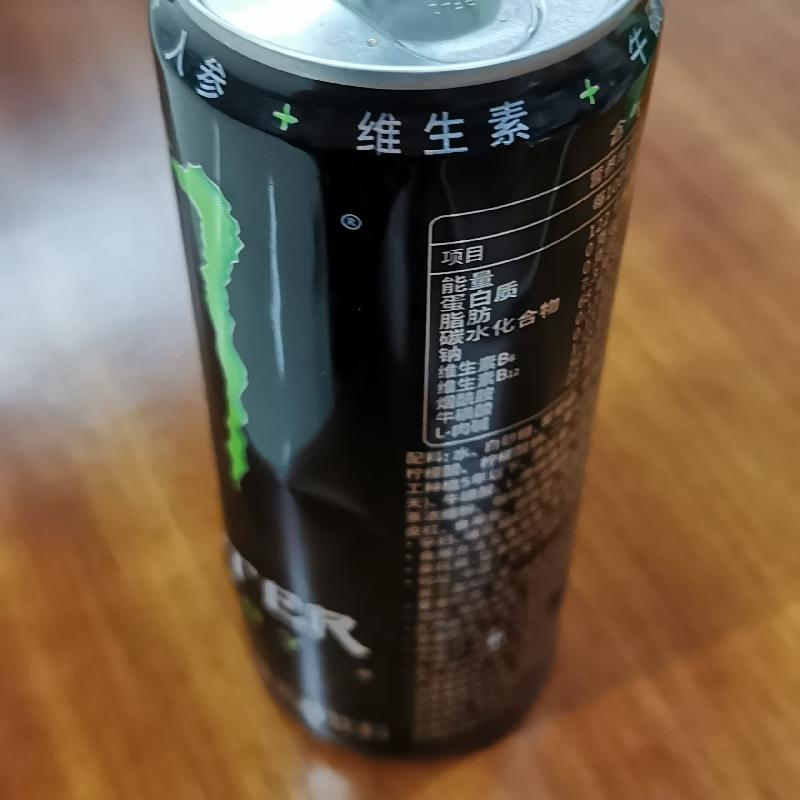cans: (140, 3, 674, 762)
